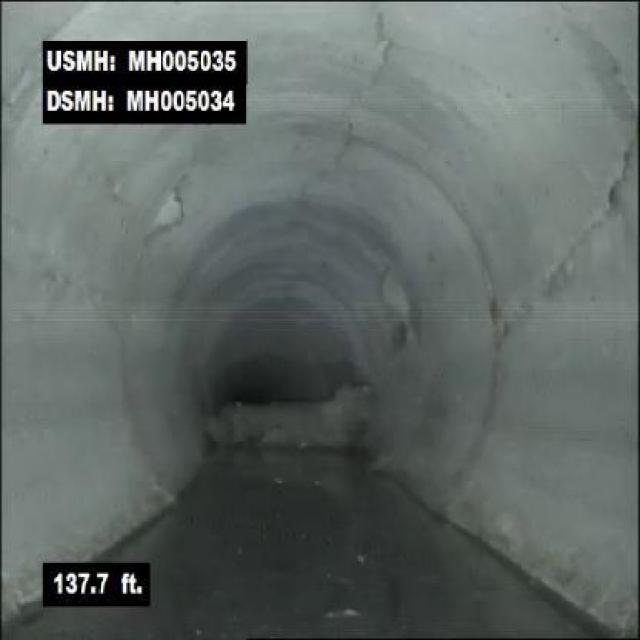Crack: (502, 146, 632, 334), (594, 35, 635, 114), (362, 8, 400, 82)
